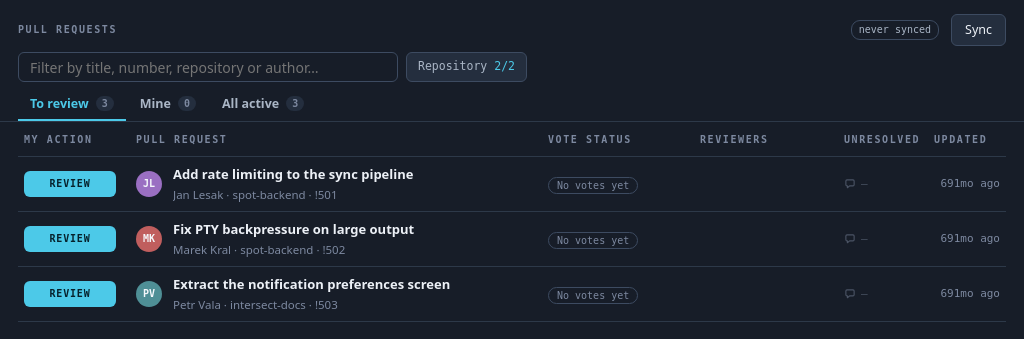
Test case: PrBoard filtering › a filter nothing matches says so, and does not claim there is nothing to review
Type "zzzz" into the search field with test id "pr-filter".
click(208, 67); type("zzzz")  # box [18, 52, 398, 82]
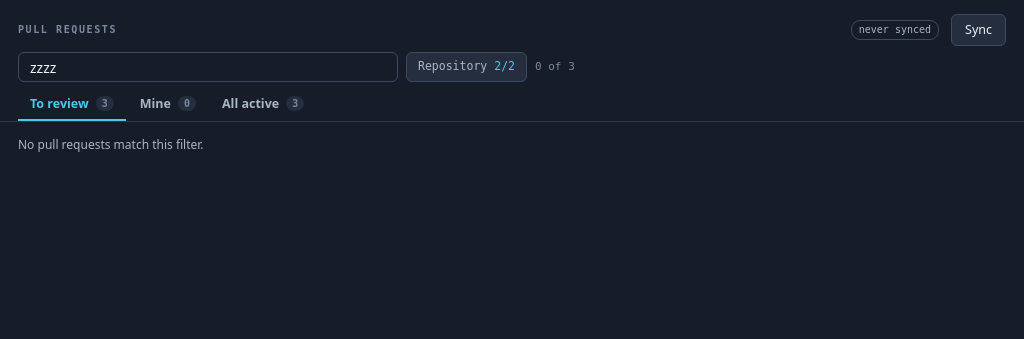
Expected: the text with class "ix-boardfilter__none" reads "No pull requests match this filter.", [18, 136, 204, 153]
